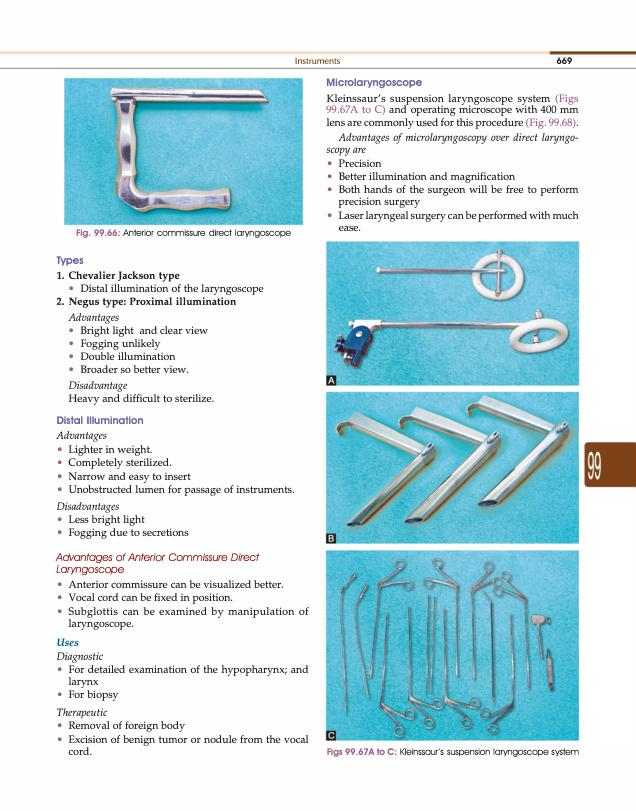caption: (326, 747, 580, 758), (75, 227, 293, 238), (327, 731, 336, 740), (328, 533, 336, 543), (327, 376, 335, 384)
header: (294, 56, 341, 65)
image: (325, 549, 580, 742), (325, 391, 579, 545), (325, 241, 580, 387), (63, 77, 303, 226)
list: (55, 269, 265, 406), (326, 157, 580, 233), (55, 443, 296, 498), (57, 579, 310, 631), (56, 663, 308, 702), (57, 720, 309, 757), (56, 514, 189, 540)
sub-section-heading: (55, 551, 261, 575), (325, 76, 424, 90), (56, 414, 144, 425), (55, 501, 120, 513), (68, 380, 128, 392), (55, 430, 108, 443), (67, 312, 120, 325), (56, 706, 108, 719), (55, 651, 104, 663), (54, 255, 84, 267), (55, 636, 80, 648)
text: (326, 92, 579, 156)
